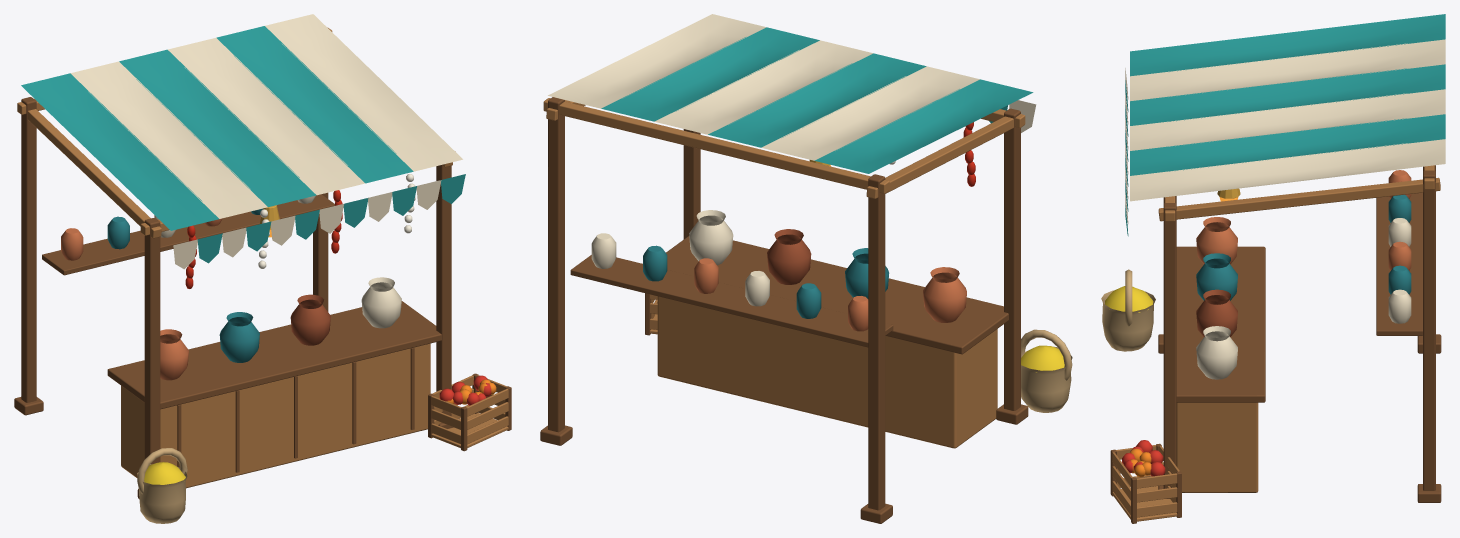
The model's file is mk_stall_pots.glb.
3 renders of one model, left to right at view 1: azimuth 30°, elevation 25°; view 2: azimuth 150°, elevation 25°; view 3: azimuth 270°, elevation 25°, orthographic. The views are drawn at different scales.
Parts seen in each view (by area): view 1: mk_stall_pots_body; view 2: mk_stall_pots_body; view 3: mk_stall_pots_body.
Boxes of the visible parts, <box> form: mk_stall_pots_body: <box>14,14,511,523</box>; mk_stall_pots_body: <box>540,14,1072,523</box>; mk_stall_pots_body: <box>1101,14,1445,523</box>.
Size of the model in its own units: 3.87 by 3.14 by 2.92.
